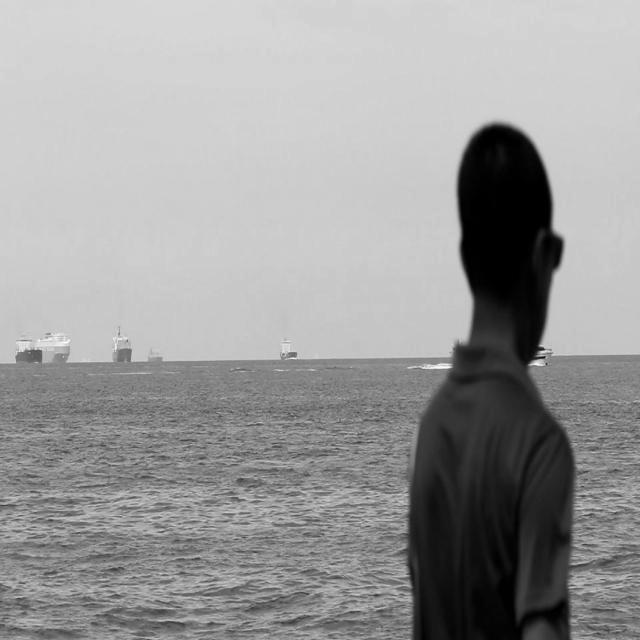ship: (492, 332, 554, 369), (36, 321, 74, 364), (10, 328, 46, 367), (108, 326, 133, 364), (274, 330, 299, 365), (146, 342, 168, 364)
